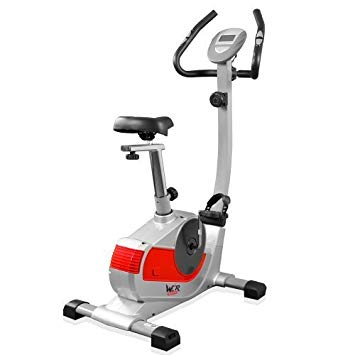gym_bike: (65, 9, 266, 351)
